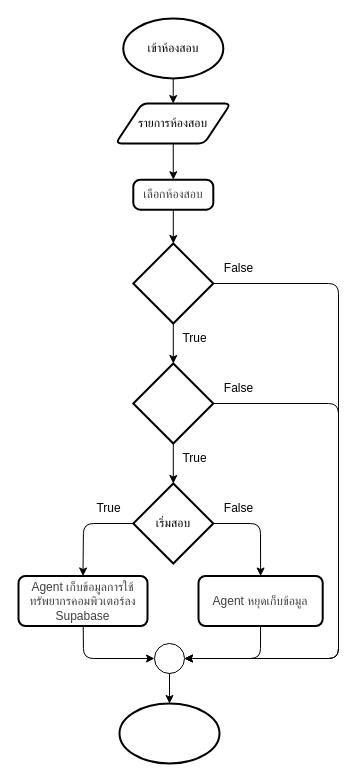
The diagram is 364 pixels wide and 781 high, and some of its shapes have lost their labels. The shapes that lost their labels are listed below. From the top down, each one's centre as x and y in pixels, then its label:
[173,283]: สเเกน ใบหน้า
[173,403]: ตรวจสอบ IP Address
[169,733]: End
